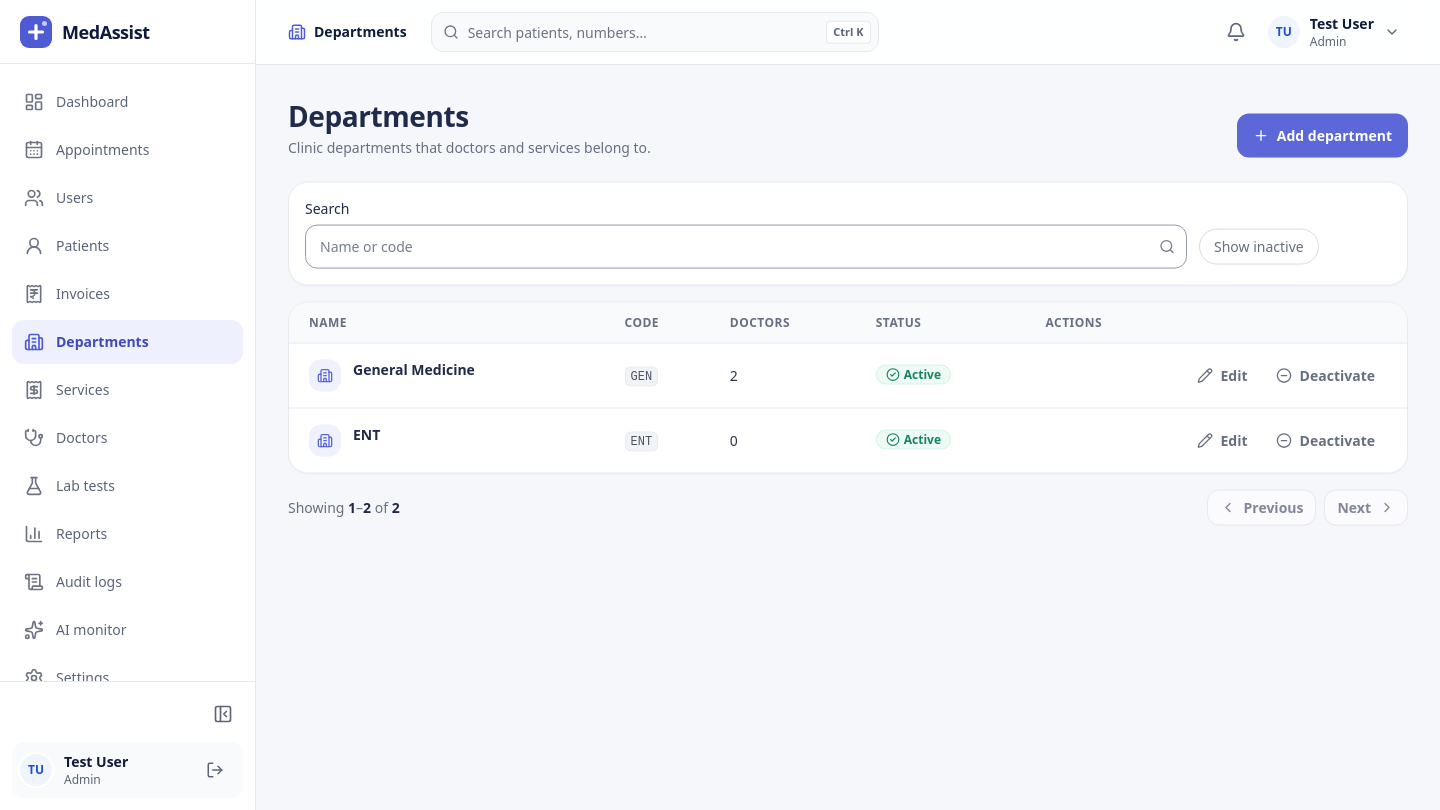
Test: DepartmentsPage › shows the server message when deactivation is blocked
Step 1. Click the button with aria-label "Deactivate General Medicine" → (1325, 375), box [1264,357,1387,393]
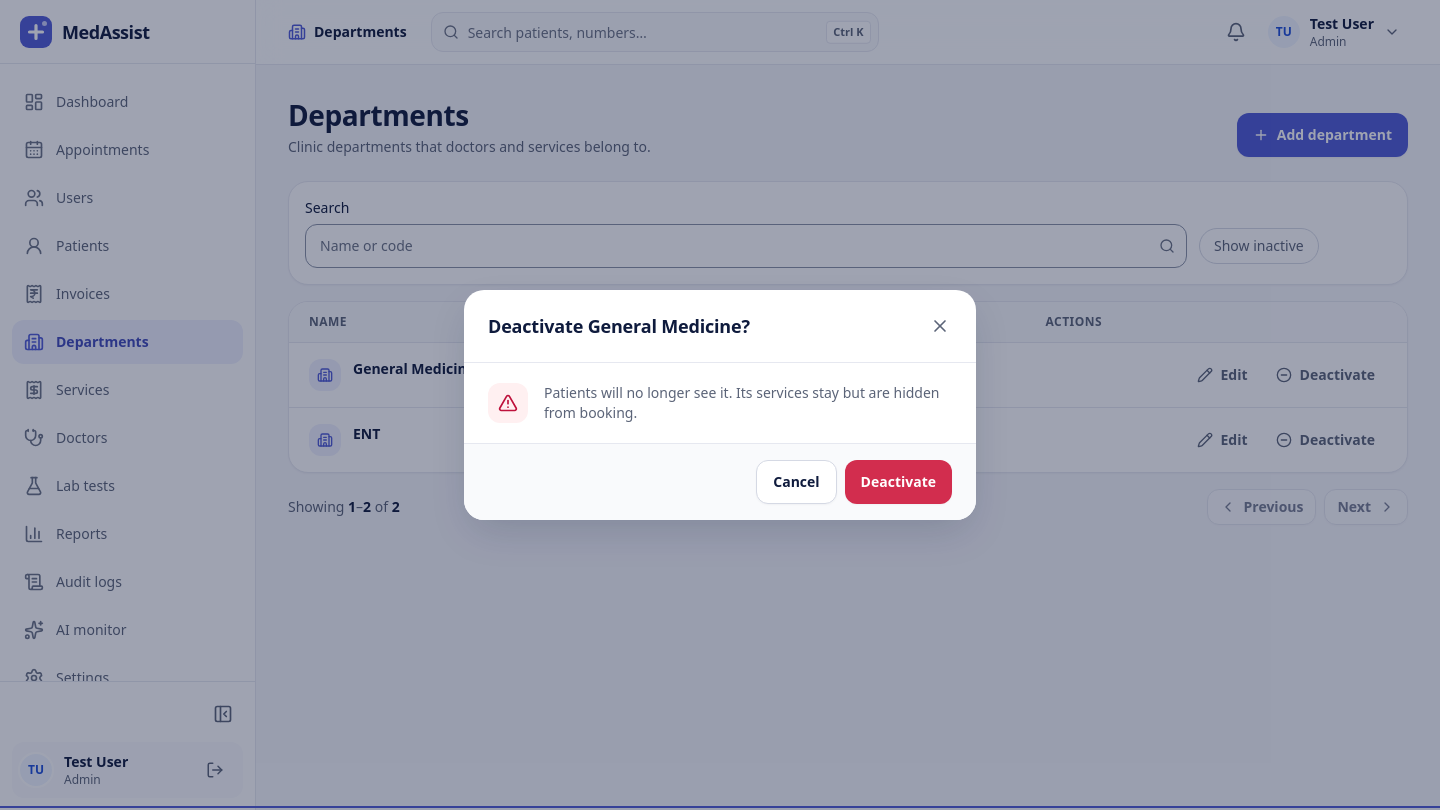
Step 2. Click the button "Deactivate" → (898, 482), box [845,460,952,504]
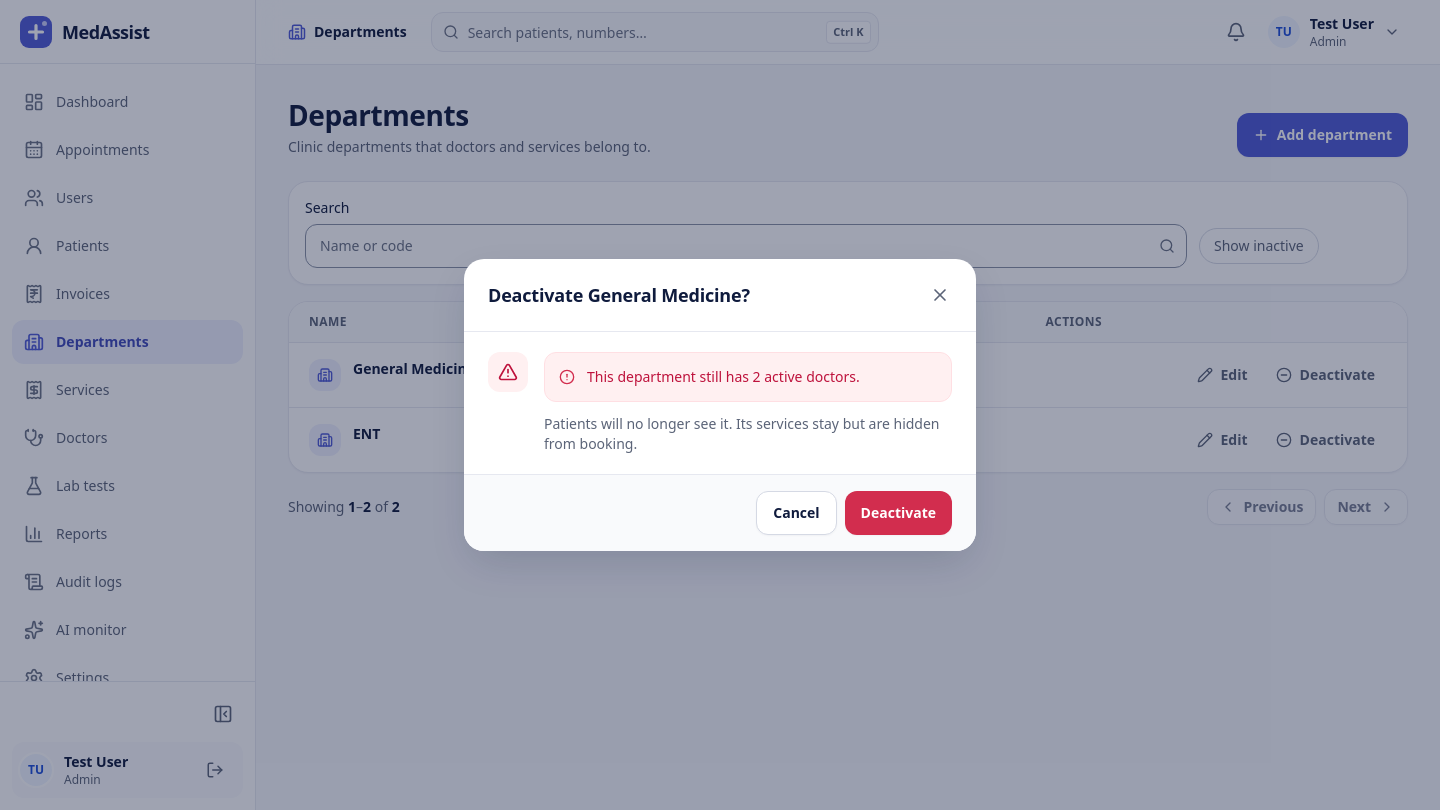
Check: the text "This department still has 2 active doctors." is shown, box [587,367,860,386]
